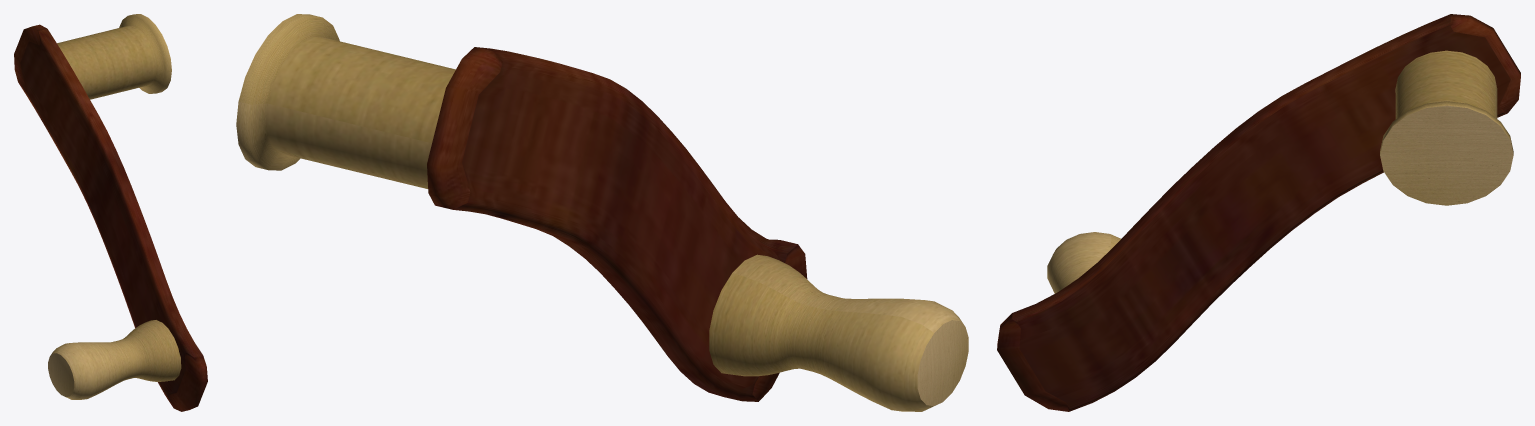
File: Handle.FBX
3 renders of one model, left to right at view 1: azimuth 30°, elevation 25°; view 2: azimuth 150°, elevation 25°; view 3: azimuth 270°, elevation 25°, orthographic. The views are drawn at different scales.
Visible parts, largest first — view 1: Handle Part, pCylinder011, pCylinder010; view 2: Handle Part, pCylinder010, pCylinder011; view 3: Handle Part, pCylinder010, pCylinder011.
Part boxes in pixels (left/top/right/bottom): Handle Part: left=14, top=24, right=207, bottom=411; pCylinder011: left=48, top=320, right=181, bottom=399; pCylinder010: left=57, top=14, right=171, bottom=99; Handle Part: left=427, top=47, right=807, bottom=401; pCylinder010: left=236, top=14, right=455, bottom=188; pCylinder011: left=709, top=254, right=968, bottom=411; Handle Part: left=997, top=14, right=1520, bottom=411; pCylinder010: left=1380, top=50, right=1513, bottom=205; pCylinder011: left=1047, top=232, right=1120, bottom=293.
Bounding box in the file's own units: 1.41 × 1.74 × 2.11.
Materials: 2 (2 with a texture image).
